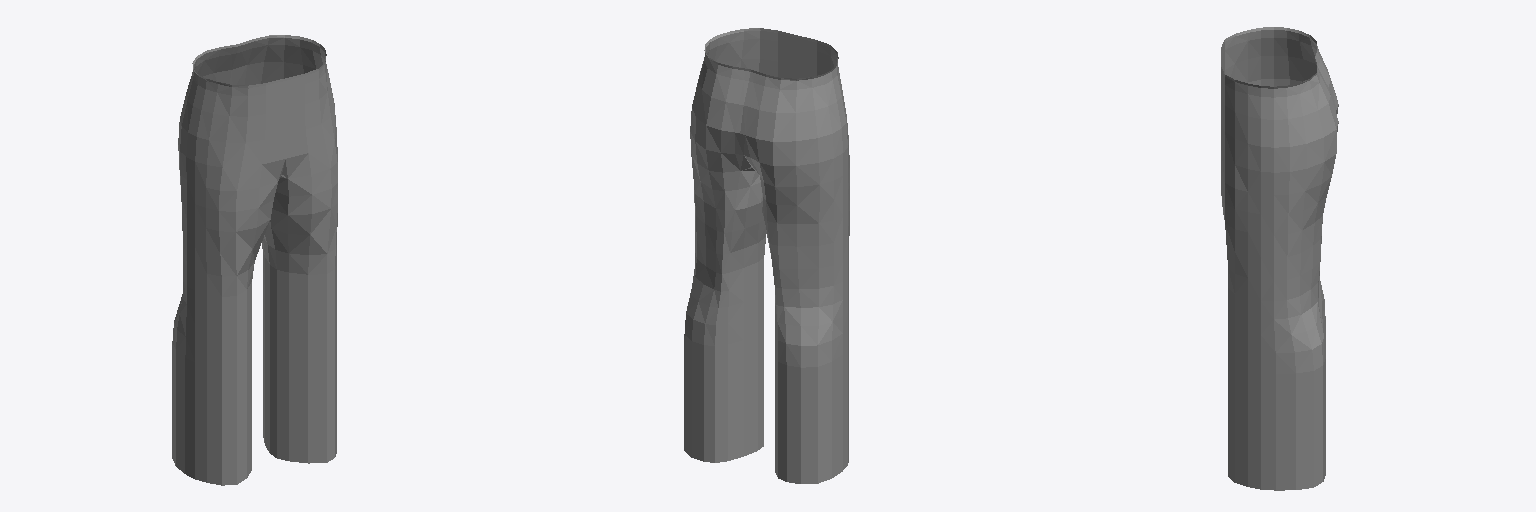
Rendered from shezi.obj.
3 renders of one model, left to right at view 1: azimuth 30°, elevation 25°; view 2: azimuth 150°, elevation 25°; view 3: azimuth 270°, elevation 25°, orthographic.
Visible parts, largest first — view 1: Form220_Mesh_Mesh; view 2: Form220_Mesh_Mesh; view 3: Form220_Mesh_Mesh.
Boxes of the visible parts, box(x1,y1,x2,y2) form: Form220_Mesh_Mesh: box(172, 35, 337, 485); Form220_Mesh_Mesh: box(684, 28, 849, 483); Form220_Mesh_Mesh: box(1221, 27, 1338, 490).
Bounding box in the file's own units: 0.1593 × 0.4177 × 0.1117.